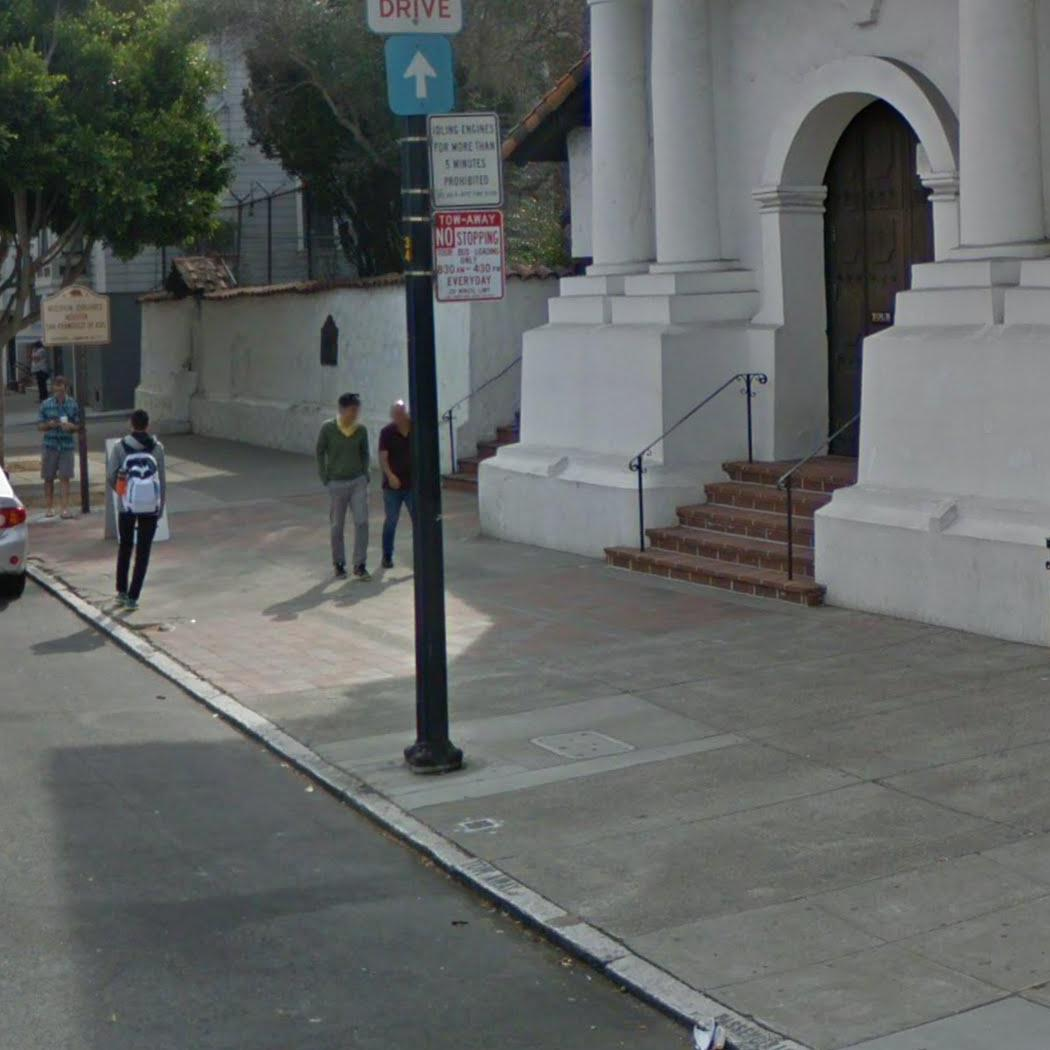No Parking: (430, 208, 506, 305)
